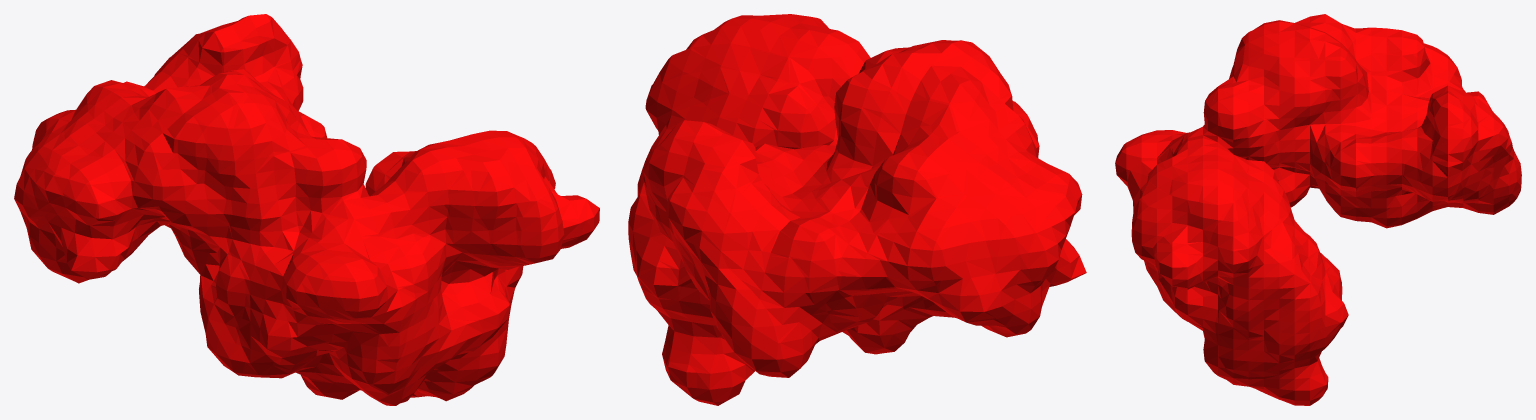
File: Drebrin_coarse.dae
3 views of the same model, side by side, from view 1: azimuth 30°, elevation 25°; view 2: azimuth 150°, elevation 25°; view 3: azimuth 270°, elevation 25° (orthographic). The views are drawn at different scales.
Parts seen in each view (by area): view 1: Drebrin; view 2: Drebrin; view 3: Drebrin.
Boxes of the visible parts, bbox=[...] form: Drebrin: bbox=[14, 14, 599, 405]; Drebrin: bbox=[628, 14, 1086, 405]; Drebrin: bbox=[1115, 14, 1521, 405].
Bounding box in the file's own units: 108 × 80.42 × 98.65.
